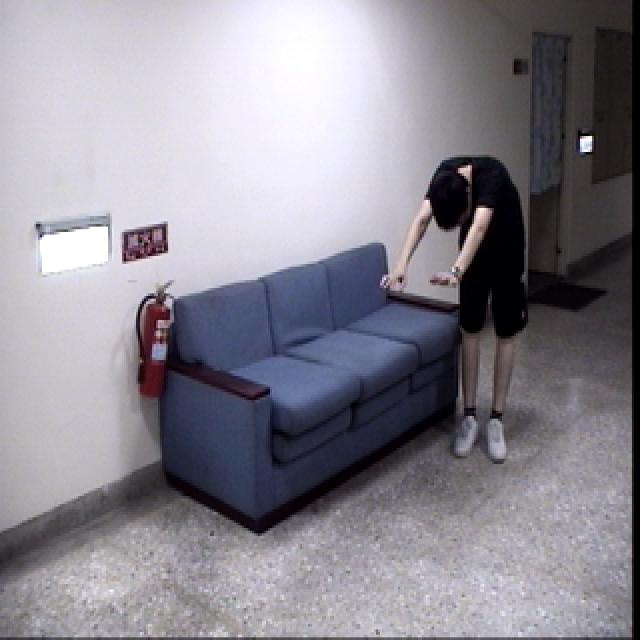bend: (374, 146, 538, 471)
